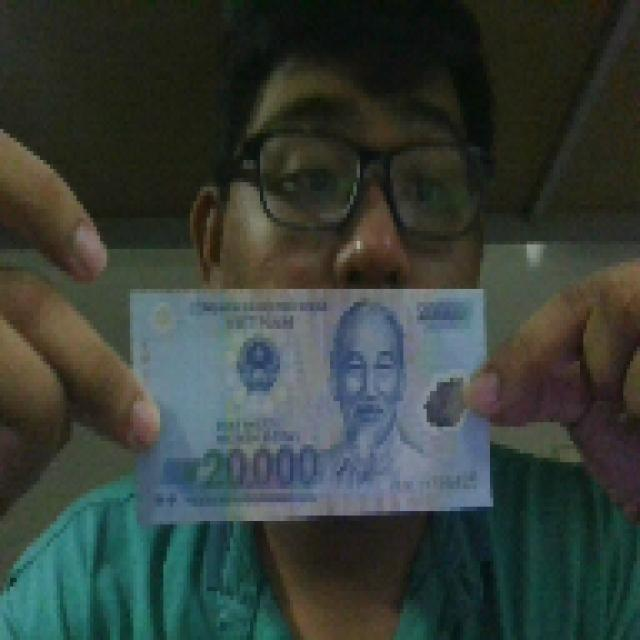20 000 VND: (123, 280, 497, 529)
